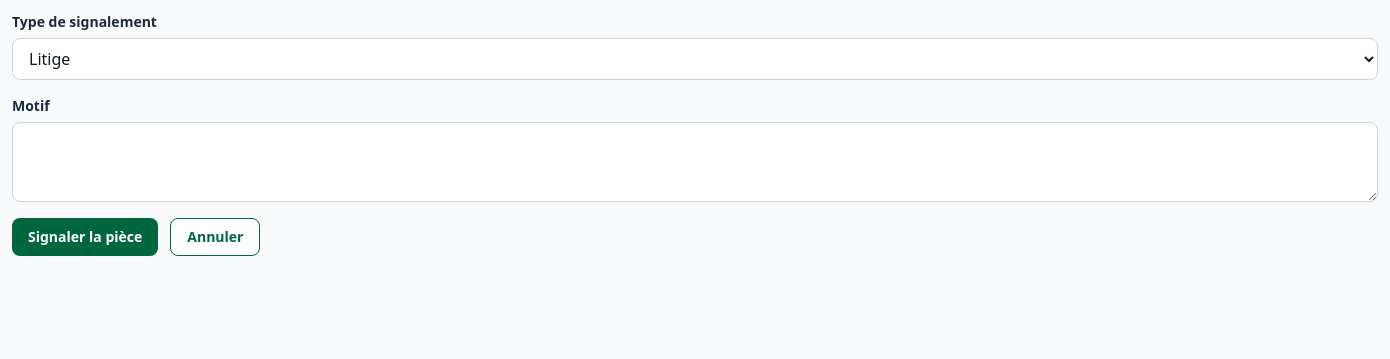
SignalerForm › affiche une erreur serveur si signalerPiece échoue
This screenshot has width=1390, height=359.
Type "Fraude suspectée" into the text box labelled "Motif" at (695, 162), box [12,122,1378,202]
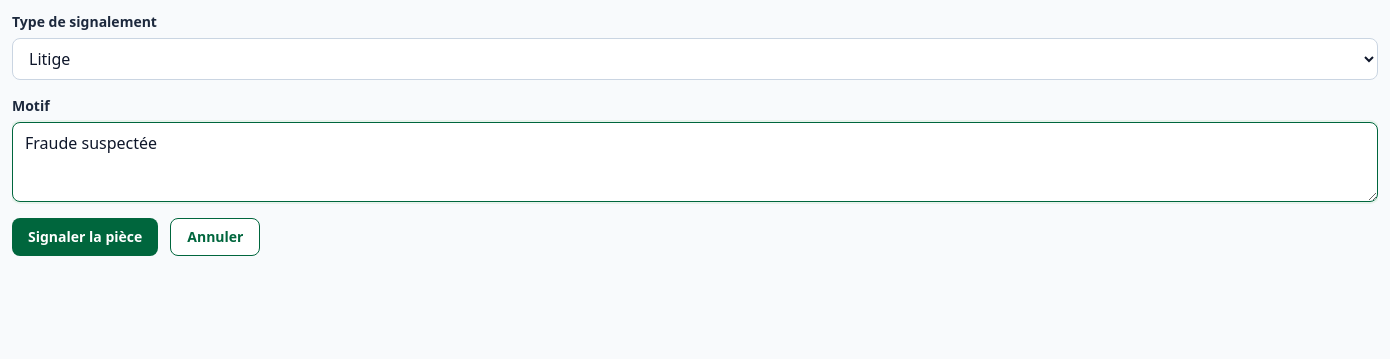
Click the button "Signaler la pièce" at (85, 237), box [12,218,158,256]
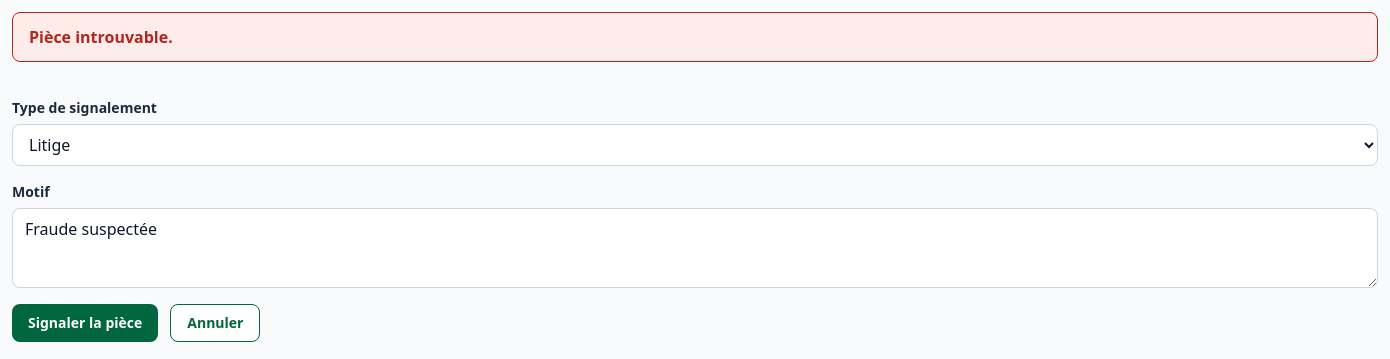
Now the text "Pièce introuvable." is shown, box [12,12,1378,62]
